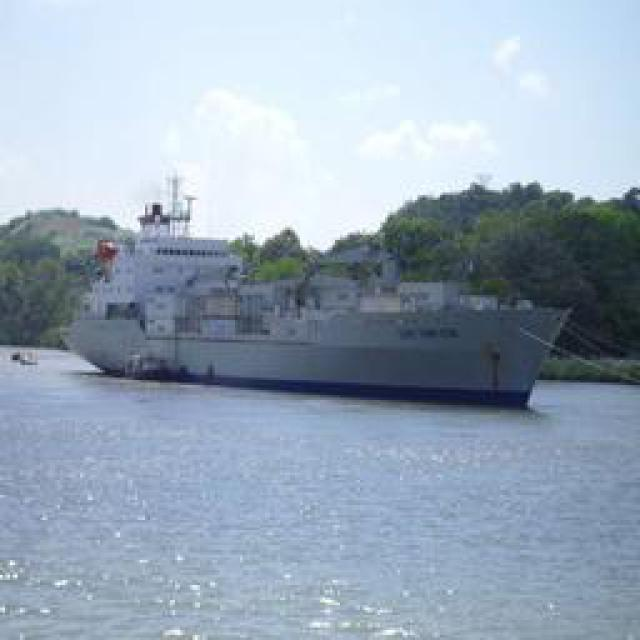Ship: (68, 196, 586, 409)
